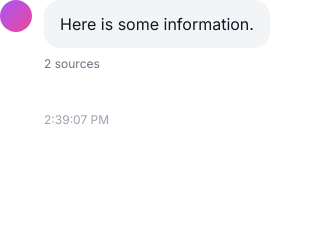
it: AIMessage › expands citations when clicked
Click the button "2 sources".
click(72, 64)  # box x1=44 y1=56 x2=100 y2=72
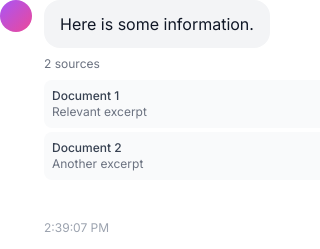
Expected: the text "Document 1" is shown, x1=52 y1=88 x2=119 y2=103
Expected: the text "Document 2" is shown, x1=52 y1=140 x2=122 y2=155
